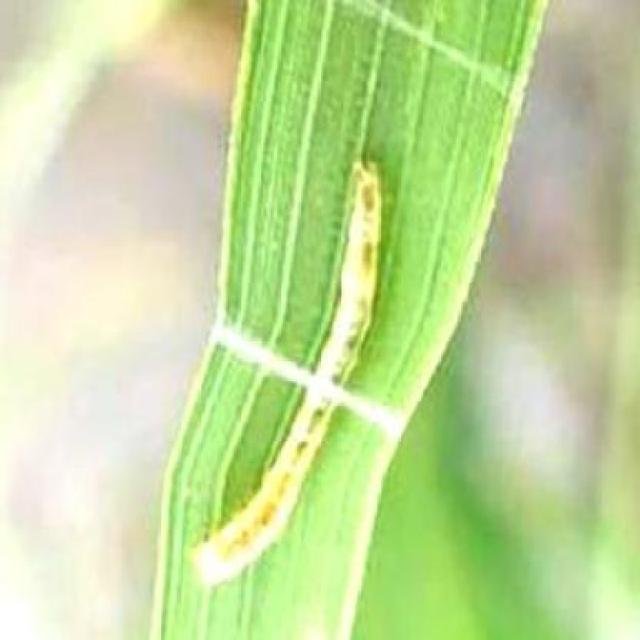leaf-folder: (189, 147, 402, 604)
